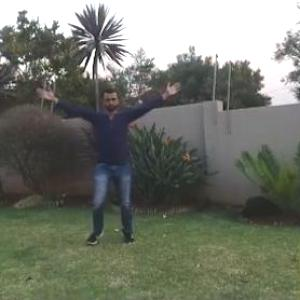takeoff: (24, 81, 184, 246)
